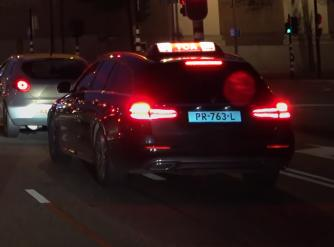license-plate: (187, 110, 243, 125)
